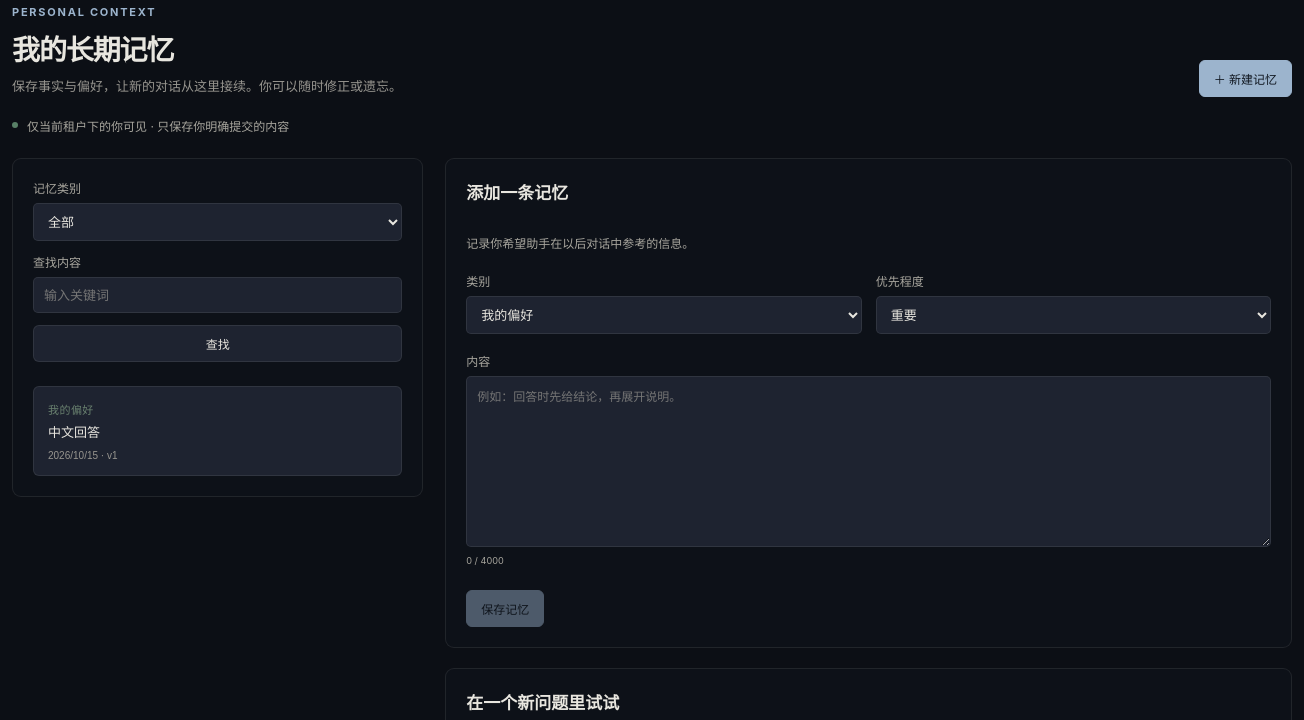
Test: personal memory workbench › shows a conflict without discarding the proposed correction
Click the button "我的偏好 中文回答 2026/10/15 · v1": {"x": 71, "y": 410} [33,386,402,476]
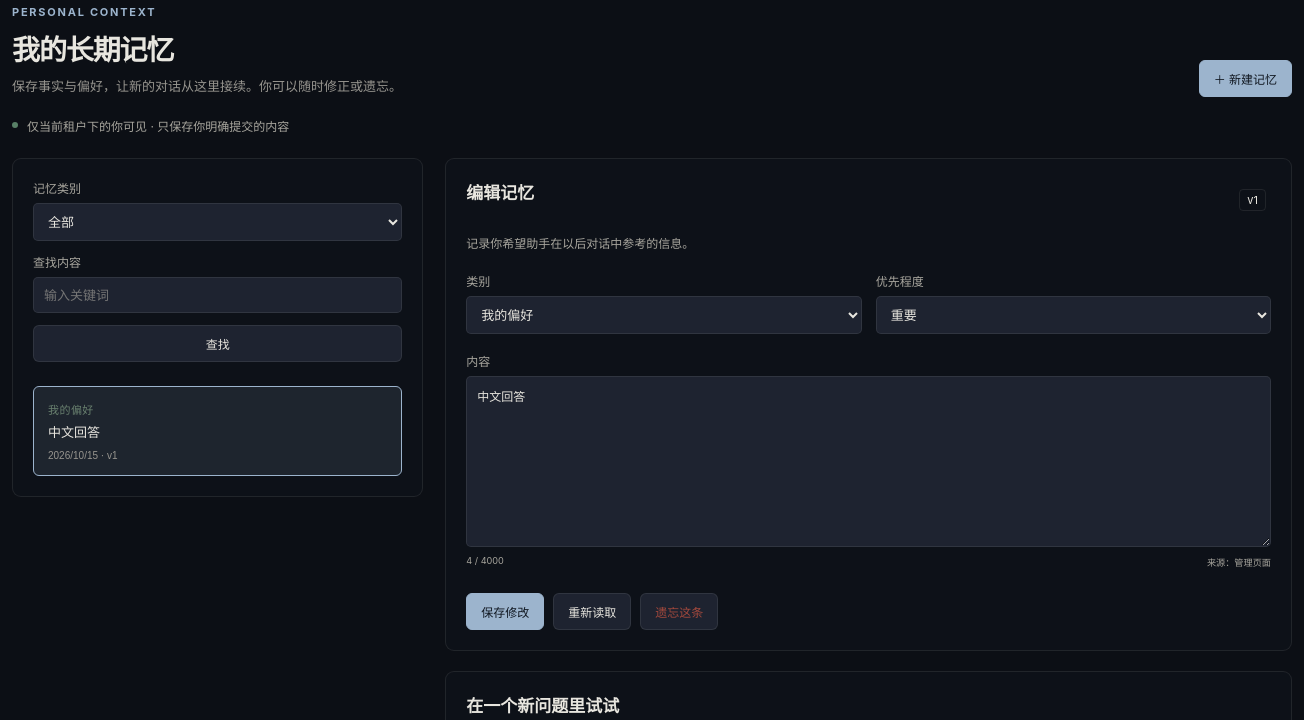
Replace the text in the text box labelled "内容" with "未保存修正": {"x": 869, "y": 462} [466,376,1271,547]
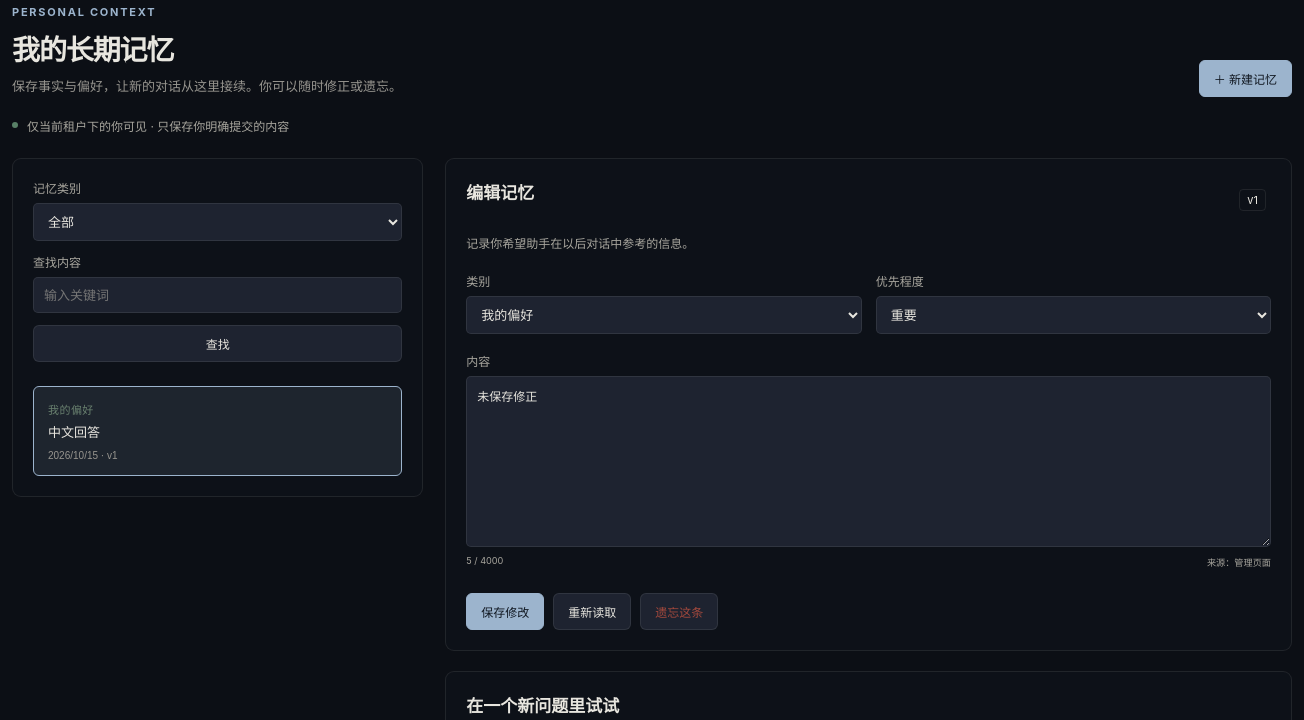
Submit the form named "编辑记忆", box [445,158,1292,651]
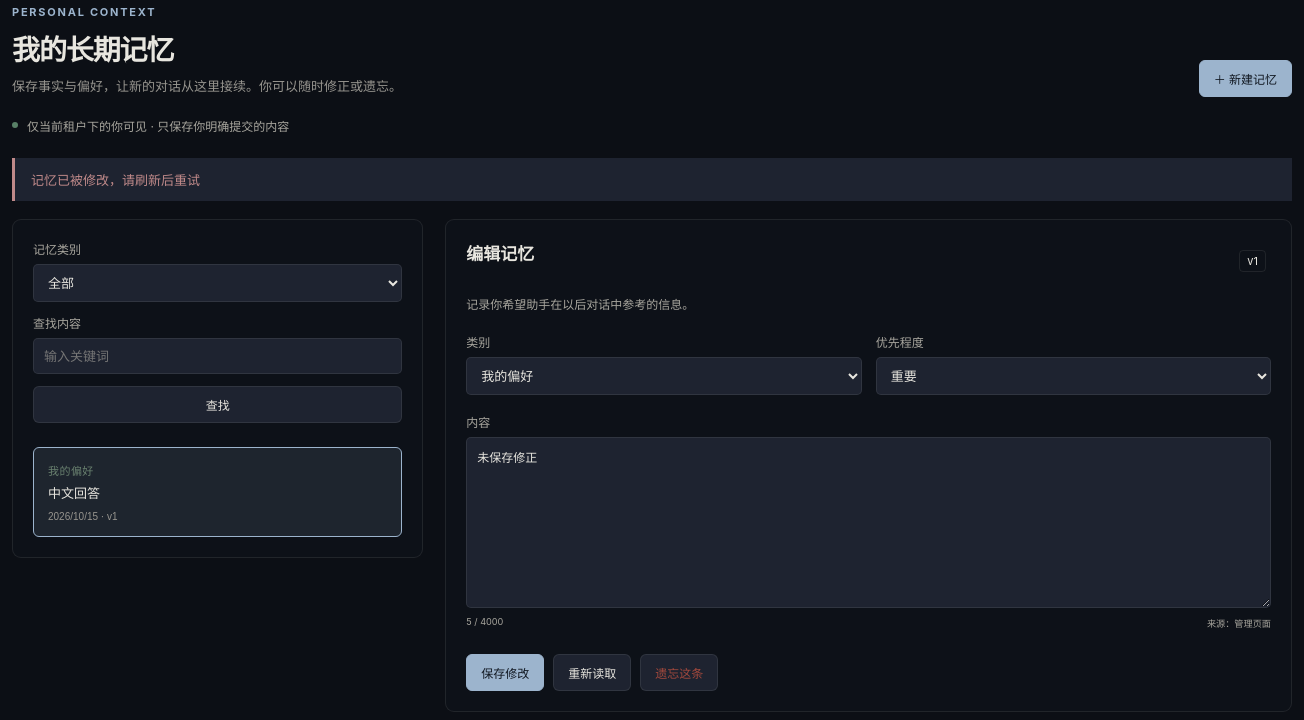
Now the message "记忆已被修改，请刷新后重试" is shown, box [12,158,1292,201]
